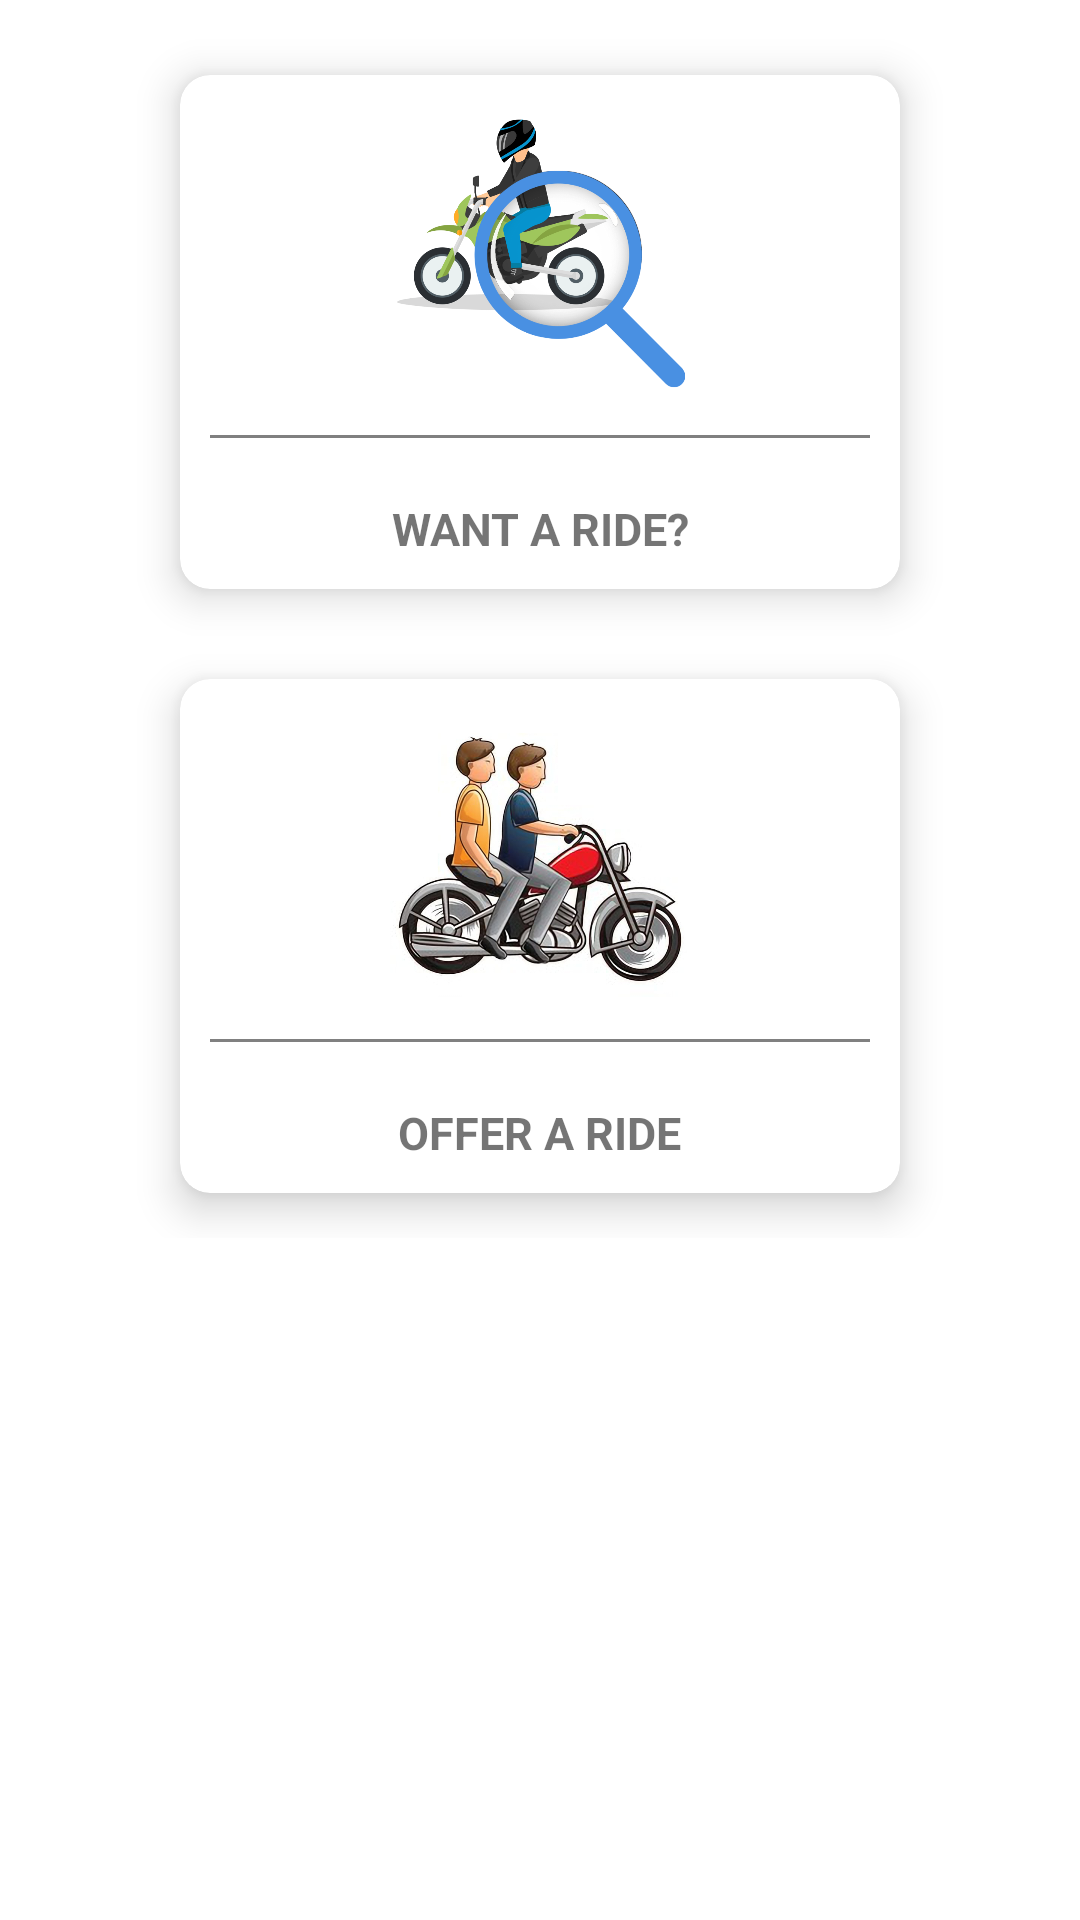

Icons on this 1080×1920 Android screen, each with the point to tap as point (x, y):
bike: point (541, 253)
bike with passenger: point (540, 859)
